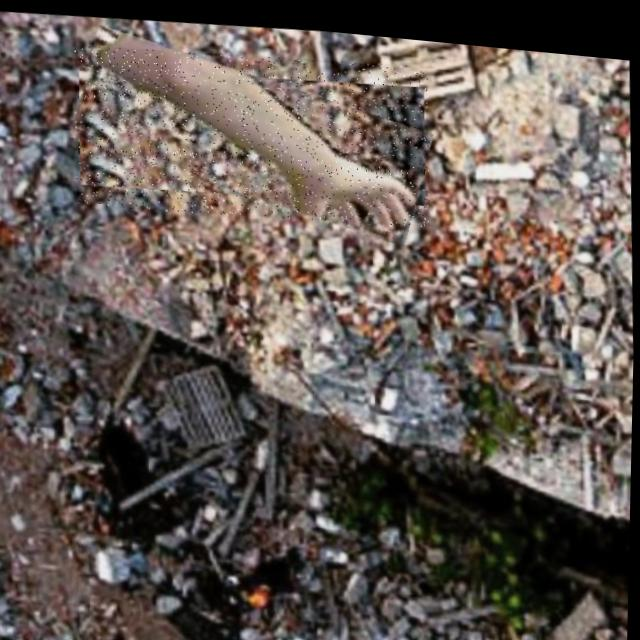Person in Rubble: (72, 31, 433, 230)
